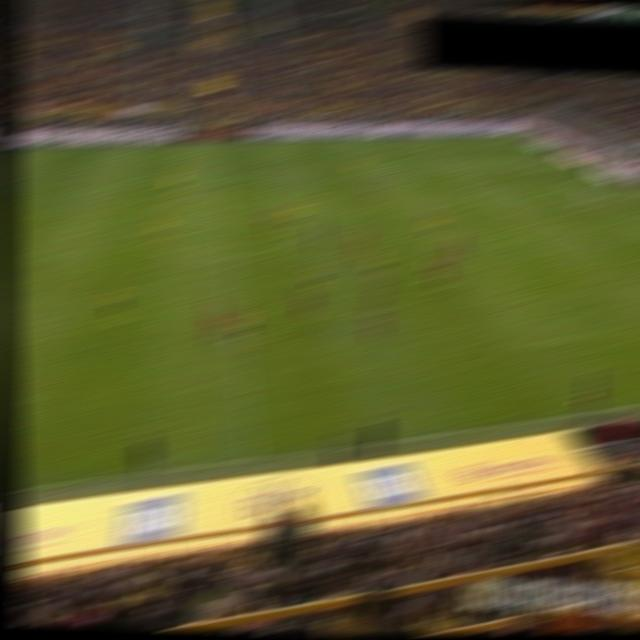bigarea_top_inner: (453, 155, 477, 165)
bigarea_top_outter: (547, 155, 568, 160)
bottom_arc_area_intersection: (552, 220, 577, 231)
corner: (506, 133, 529, 144)
halfcircle_bottom: (217, 250, 241, 260)
halfcircle_top: (212, 187, 235, 198)
midline_bottom_intersection: (238, 451, 267, 467)
midline_top_intersection: (206, 138, 231, 148)
smallarea_top_inner: (558, 175, 582, 186)
smallarea_top_outter: (591, 173, 615, 183)
top_arc_area_intersection: (492, 180, 515, 190)
